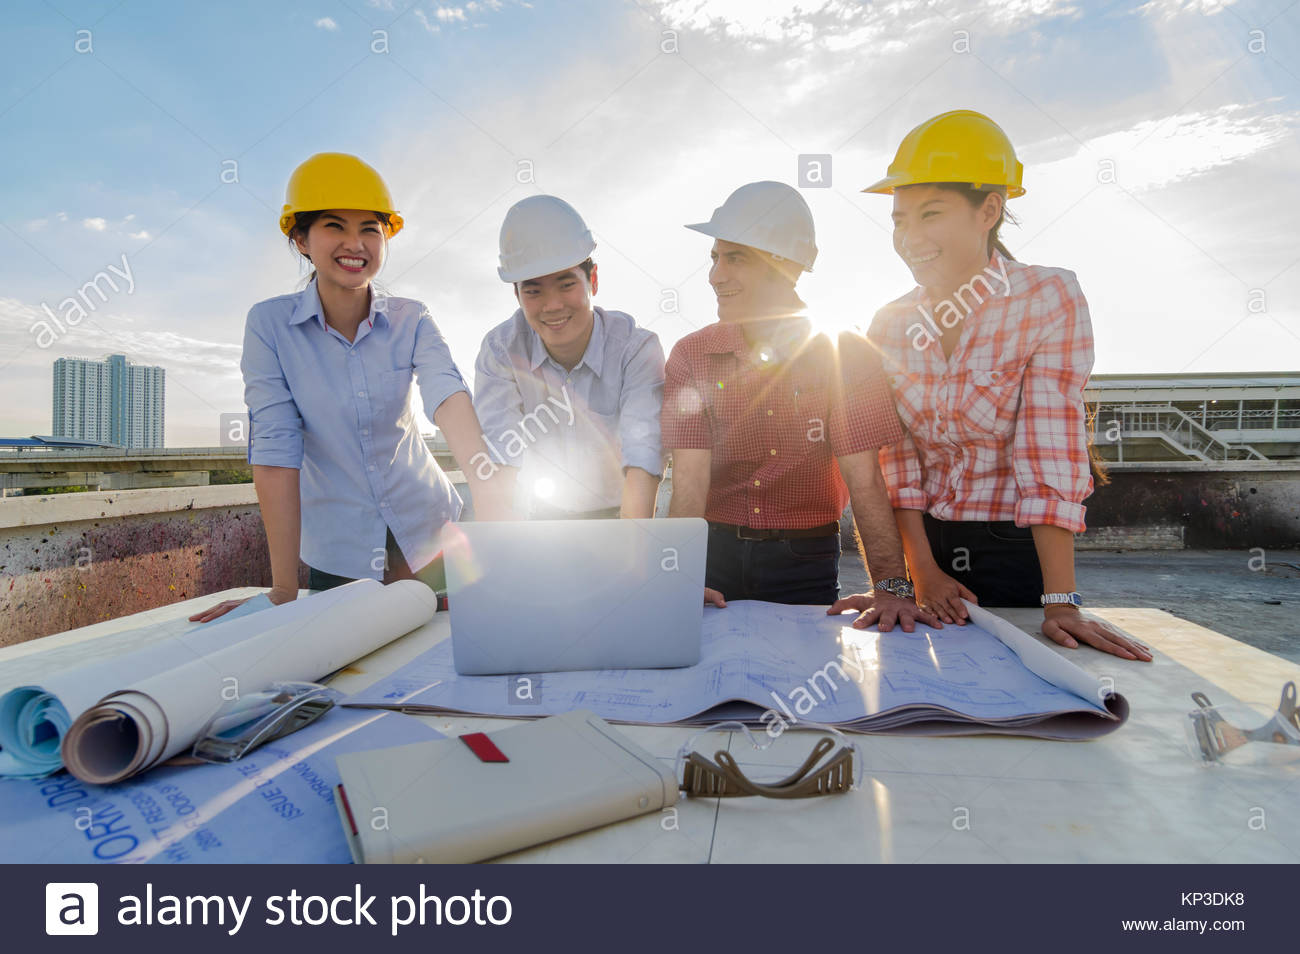casco: (858, 108, 1028, 202), (686, 180, 821, 275), (278, 151, 406, 245), (495, 193, 600, 286)
